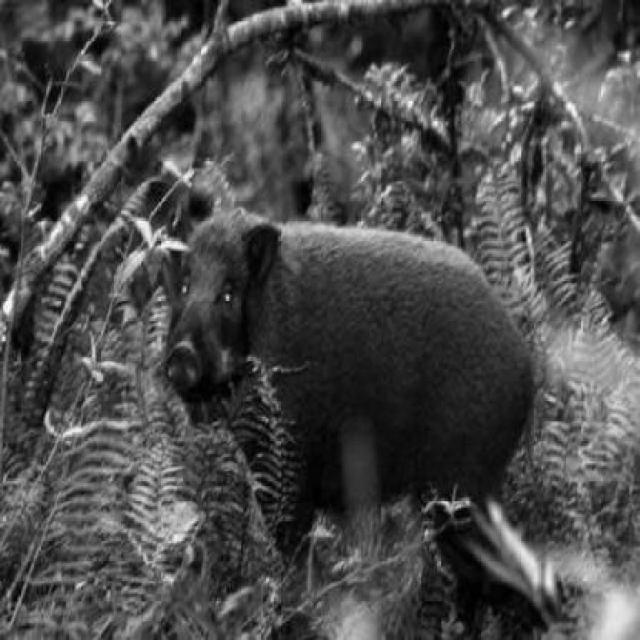Boar: (157, 148, 575, 554)
